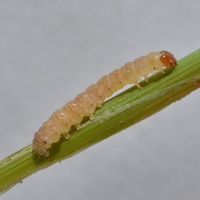insect: (32, 51, 175, 155)
